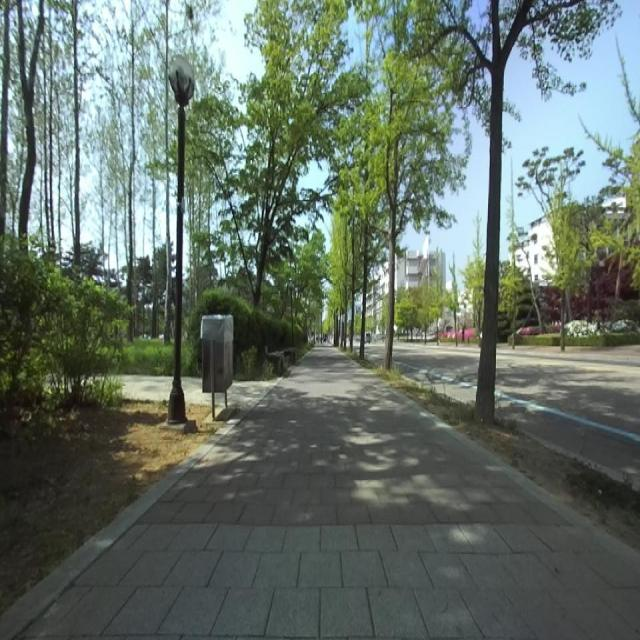sidewalk: (22, 346, 640, 638)
